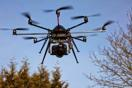UAV: (69, 3, 132, 88)
